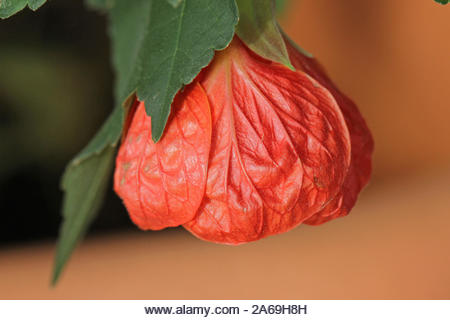Hibiscus: (88, 24, 380, 243)
